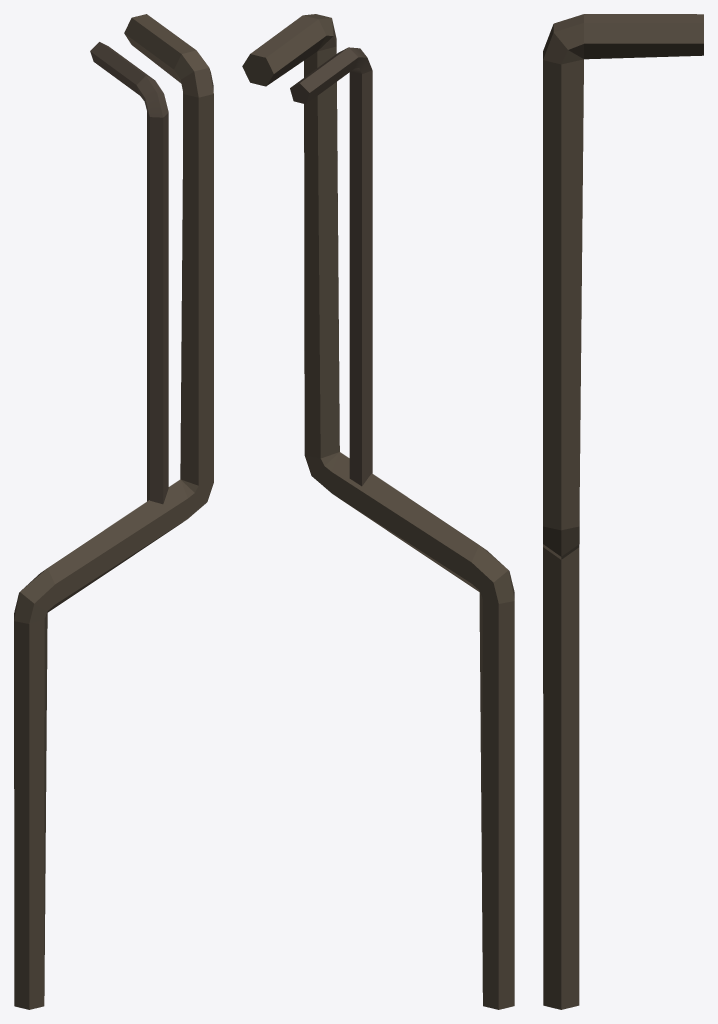
The model's file is SM_Prop_Bathroom_Pipes_01.fbx.
3 renders of one model, left to right at view 1: azimuth 30°, elevation 25°; view 2: azimuth 150°, elevation 25°; view 3: azimuth 270°, elevation 25°, orthographic. The views are drawn at different scales.
Visible parts, largest first — view 1: SM_Prop_Bathroom_Pipes_01; view 2: SM_Prop_Bathroom_Pipes_01; view 3: SM_Prop_Bathroom_Pipes_01.
Part boxes in pixels (bbox=[...]): SM_Prop_Bathroom_Pipes_01: bbox=[14, 14, 213, 1009]; SM_Prop_Bathroom_Pipes_01: bbox=[242, 14, 514, 1009]; SM_Prop_Bathroom_Pipes_01: bbox=[543, 14, 703, 1009].
Bounding box in the file's own units: 47.79 × 206 × 27.8.
